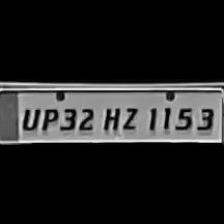1: (141, 104, 161, 132), (158, 104, 174, 130)
2: (76, 102, 96, 134)
3: (195, 104, 215, 132), (58, 103, 76, 132)
5: (172, 103, 194, 132)
H: (99, 103, 121, 133)
P: (38, 104, 57, 132)
U: (19, 104, 39, 132)
Z: (119, 103, 139, 133)
